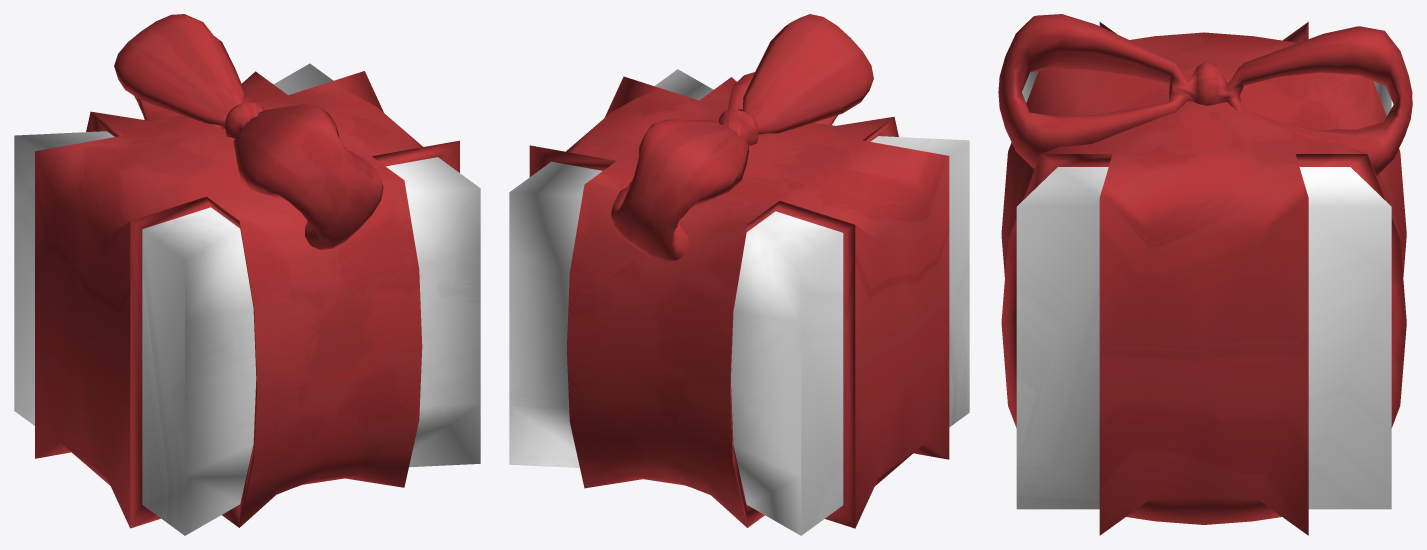
Rendered from Mystery box good.fbx.
3 views of the same model, side by side, from view 1: azimuth 30°, elevation 25°; view 2: azimuth 150°, elevation 25°; view 3: azimuth 270°, elevation 25° (orthographic). The views are drawn at different scales.
Visible parts, largest first — view 1: pasted__pCube3; view 2: pasted__pCube3; view 3: pasted__pCube3.
Part boxes in pixels (x1,y1,x2,y2): pasted__pCube3: (14, 14, 480, 535); pasted__pCube3: (509, 14, 969, 535); pasted__pCube3: (998, 14, 1412, 535).
Bounding box in the file's own units: 5.39 × 6.05 × 5.09.
